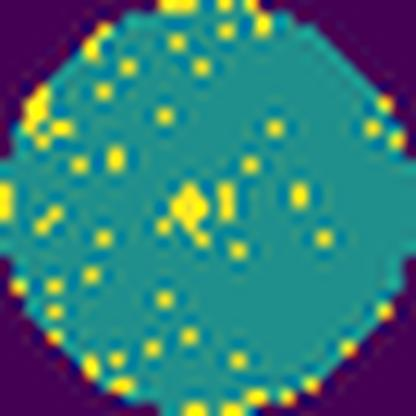Center: (160, 174, 222, 261)
